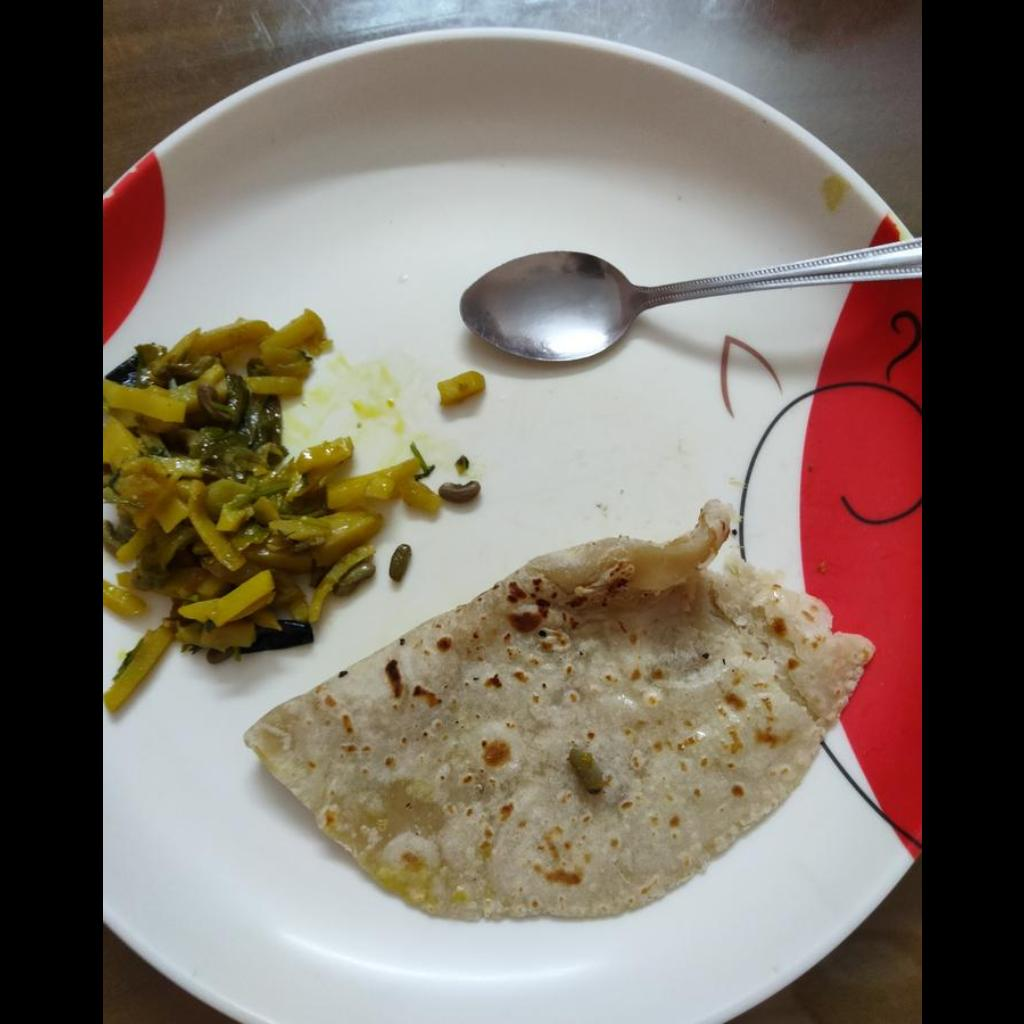ruti: (242, 495, 872, 926)
vaji: (102, 311, 447, 715)
